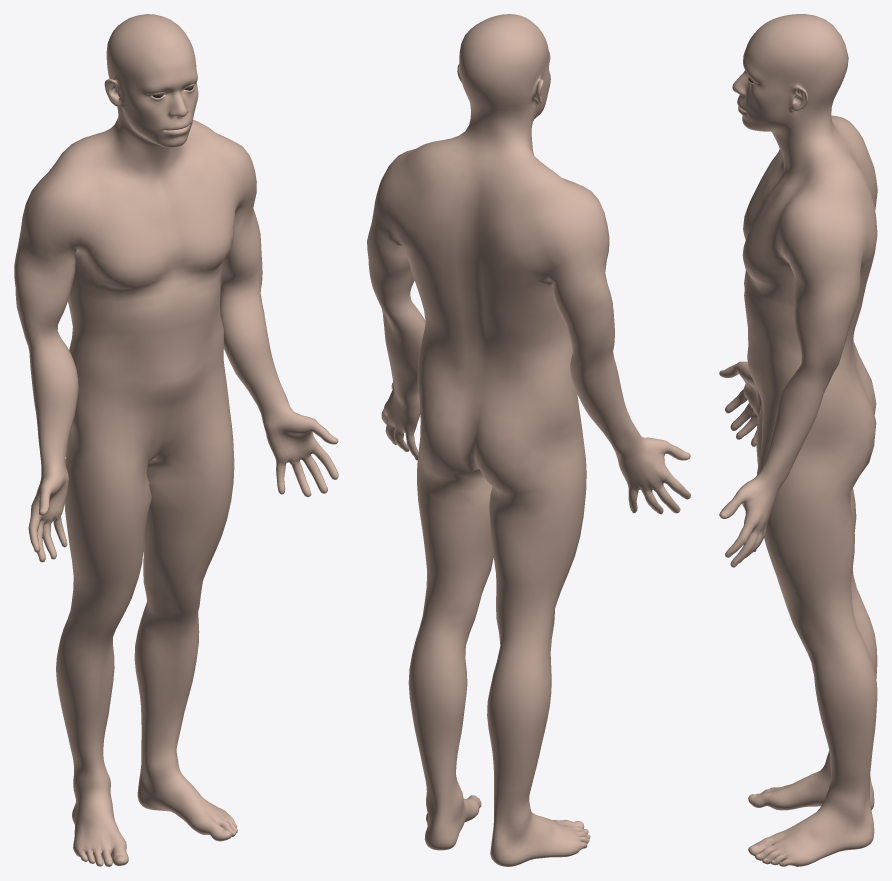
File: human-neutral.glb
3 renders of one model, left to right at view 1: azimuth 30°, elevation 25°; view 2: azimuth 150°, elevation 25°; view 3: azimuth 270°, elevation 25°, orthographic.
Visible parts, largest first — view 1: female_v006lowresUV; view 2: female_v006lowresUV; view 3: female_v006lowresUV.
Part boxes in pixels (x1,y1,x2,y2): female_v006lowresUV: (14,14,338,866); female_v006lowresUV: (367,14,690,866); female_v006lowresUV: (719,14,877,866).
Bounding box in the file's own units: 0.6634 × 1.71 × 0.3014.
